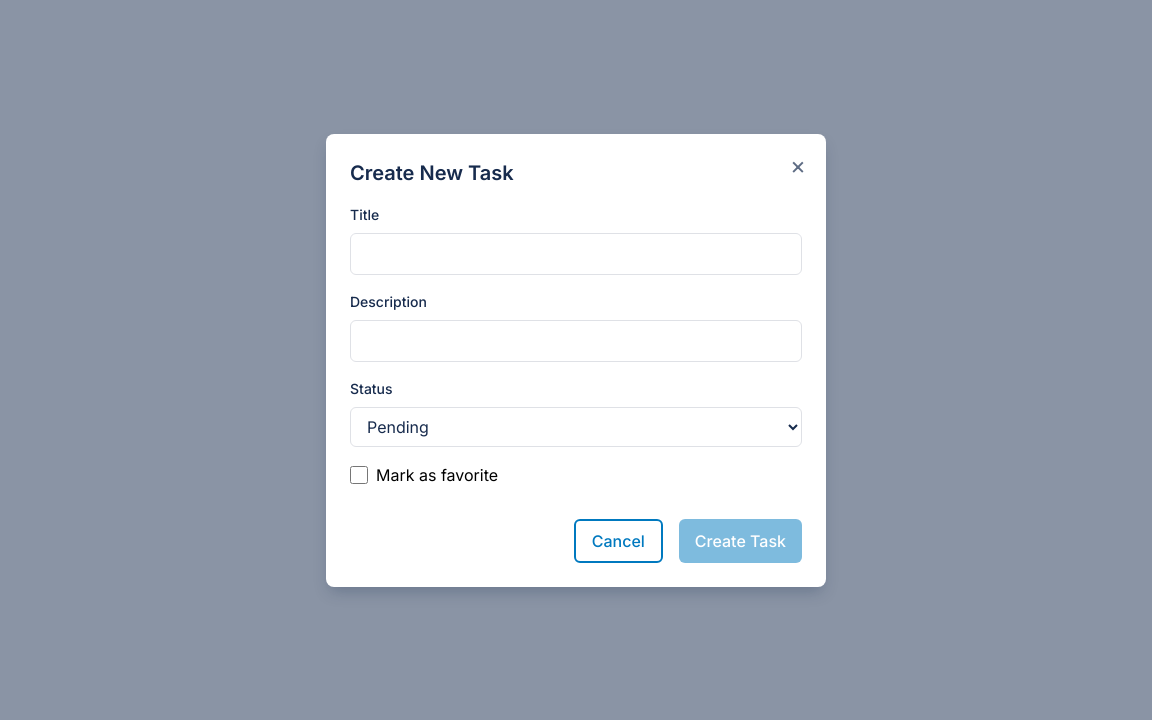
Test: TaskFormModal › Form Validation › should enable submit button when all fields are valid
This screenshot has width=1152, height=720.
In the field labelled "Title": (576, 254) [350,232,802,274], type "Test Title"
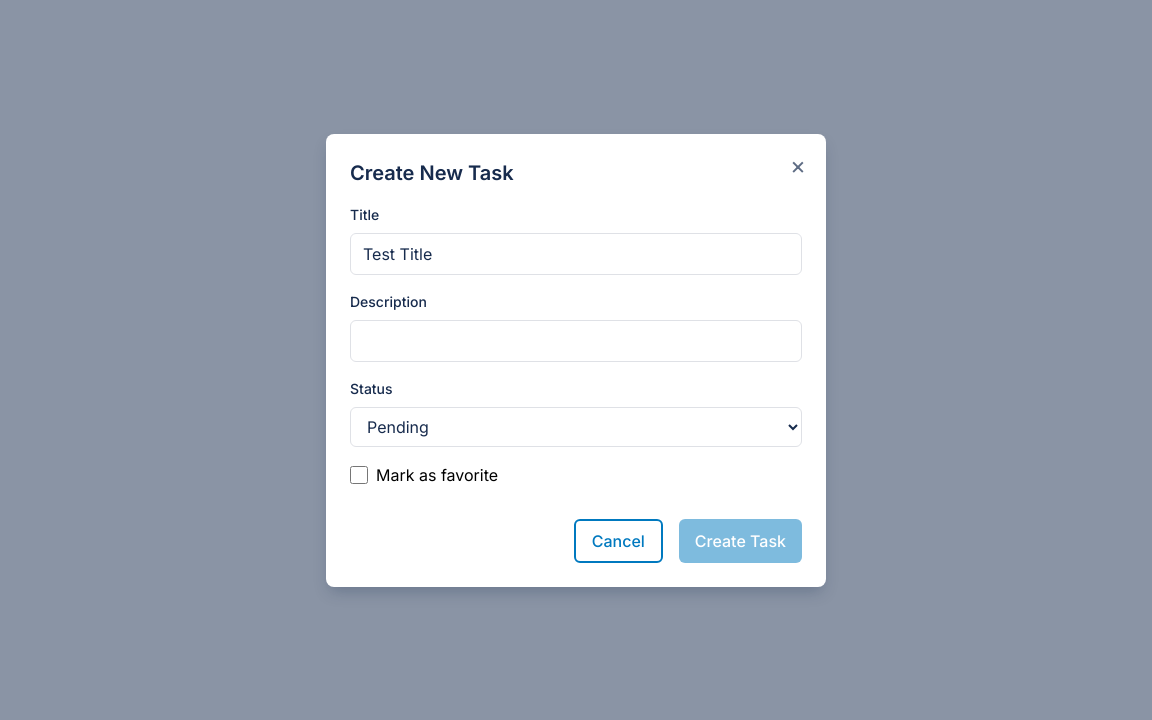
In the field labelled "Description": (576, 340) [350,320,802,362], type "This is a test description"
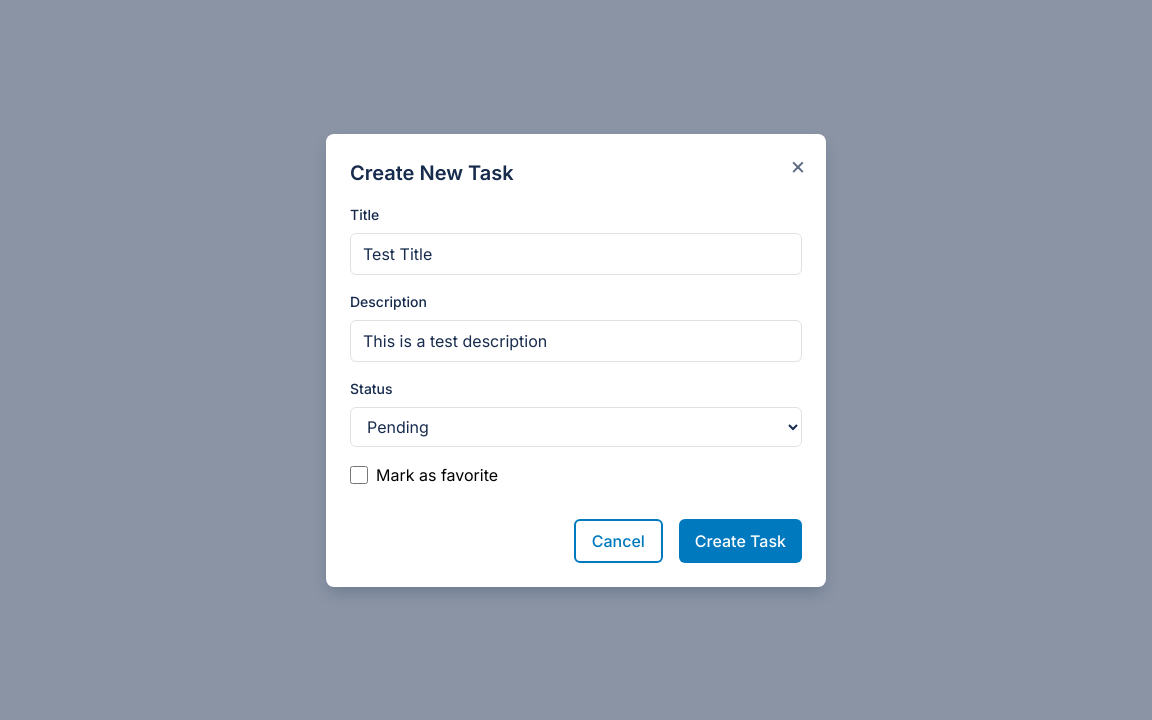
Check: the button "Create Task" is enabled, box [679,518,802,562]
